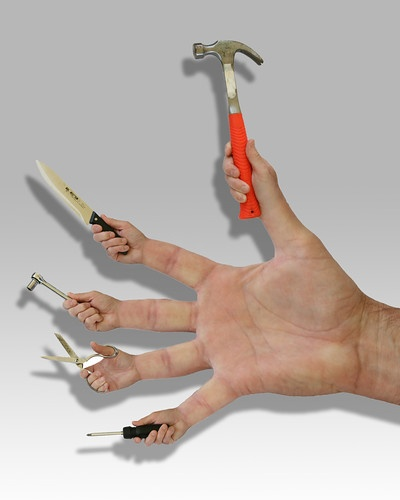hammer: (191, 38, 266, 221)
